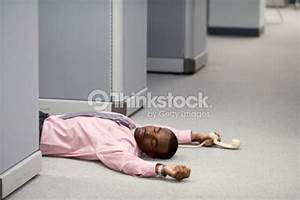collapsed: (38, 86, 294, 186)
